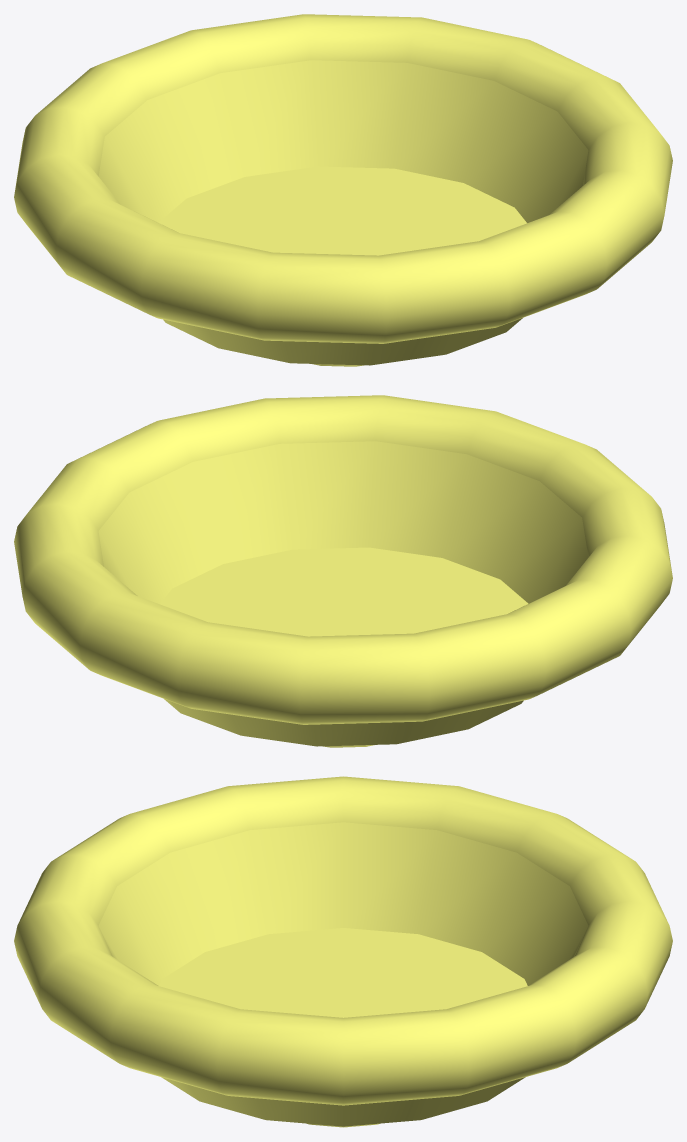
3 renders of one model, top to bottom at view 1: azimuth 30°, elevation 25°; view 2: azimuth 150°, elevation 25°; view 3: azimuth 270°, elevation 25°, orthographic.
Visible parts, largest first — view 1: 6256.dat; view 2: 6256.dat; view 3: 6256.dat.
Part boxes in pixels (box(x1,y1,x2,y2)): 6256.dat: box(14, 14, 672, 366); 6256.dat: box(14, 395, 672, 747); 6256.dat: box(14, 776, 672, 1127).
Bounding box in the file's own units: 0.024 × 0.0076 × 0.024.
